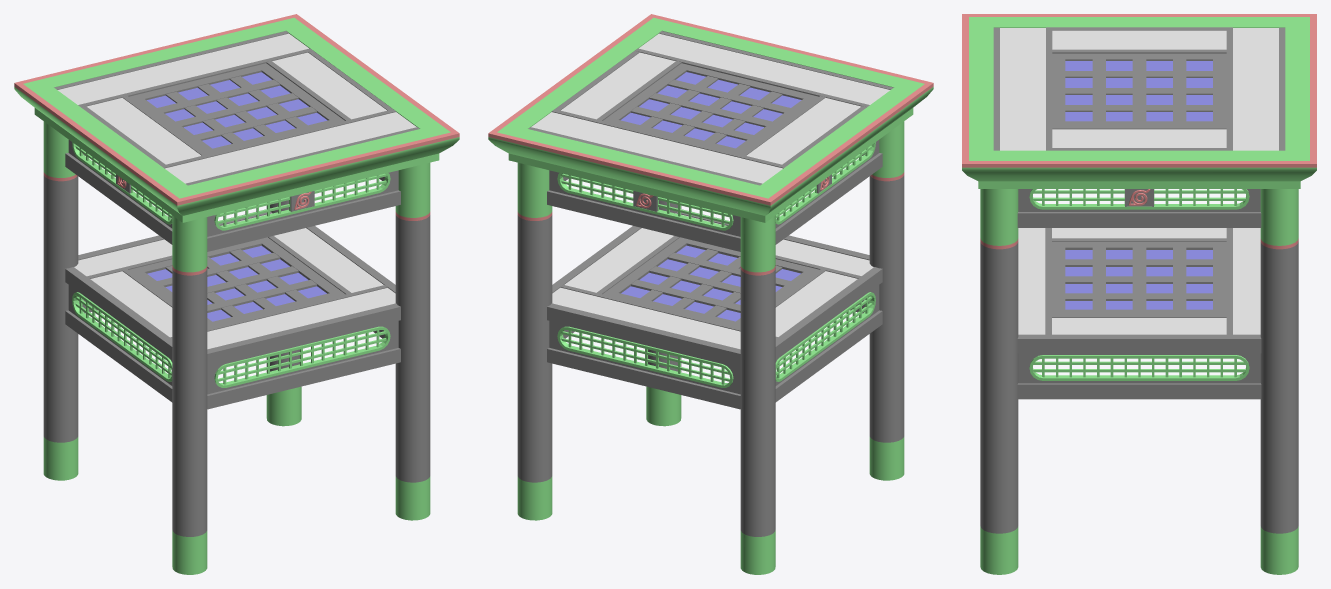
Rendered from SM_ENV_KNVLLG03_Yagura.gltf.
3 views of the same model, side by side, from view 1: azimuth 30°, elevation 25°; view 2: azimuth 150°, elevation 25°; view 3: azimuth 270°, elevation 25° (orthographic). The views are drawn at different scales.
Visible parts, largest first — view 1: SM_ENV_KNVLLG03_Yagura; view 2: SM_ENV_KNVLLG03_Yagura; view 3: SM_ENV_KNVLLG03_Yagura.
Boxes of the visible parts, x1,y1,x2,y2 form: SM_ENV_KNVLLG03_Yagura: (14,14,459,574); SM_ENV_KNVLLG03_Yagura: (488,14,933,574); SM_ENV_KNVLLG03_Yagura: (962,14,1316,574).
Bounding box in the file's own units: 14.49 × 18.87 × 14.49.
